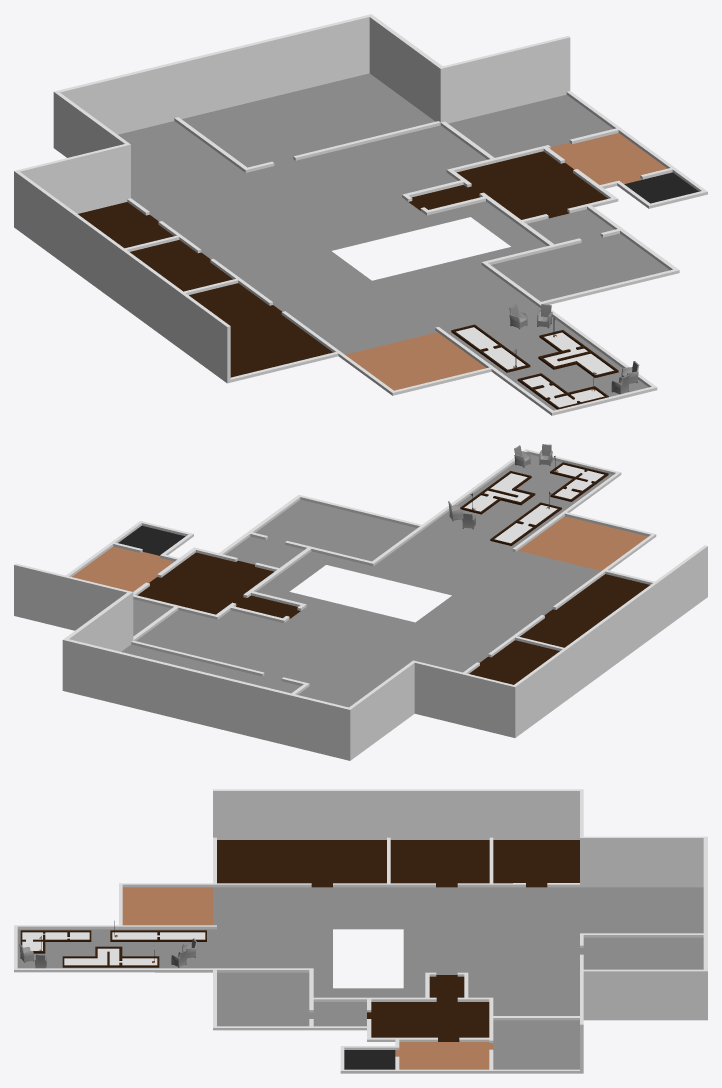
Rendered from Salle_013_b.FBX.
3 views of the same model, one above another, from view 1: azimuth 30°, elevation 25°; view 2: azimuth 150°, elevation 25°; view 3: azimuth 270°, elevation 25° (orthographic). The views are drawn at different scales.
Parts seen in each view (by area): view 1: Piece_012, Mini_Golf; view 2: Piece_012, Mini_Golf; view 3: Piece_012, Mini_Golf.
Part boxes in pixels (x1,y1,x2,y2): Piece_012: [14, 14, 707, 415]; Mini_Golf: [451, 318, 618, 409]; Piece_012: [14, 449, 707, 760]; Mini_Golf: [460, 456, 608, 545]; Piece_012: [14, 789, 707, 1073]; Mini_Golf: [20, 921, 206, 967].
Bounding box in the file's own units: 3085 × 300 × 3847.
